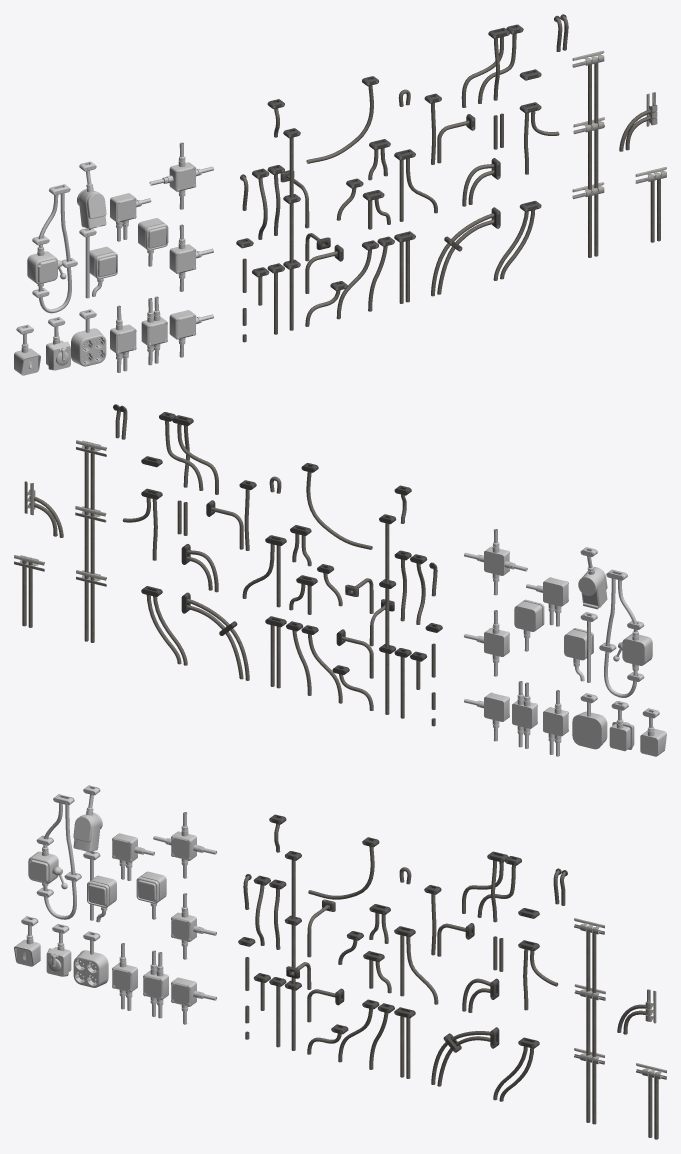
The model's file is modular_electric_cables_2k.fbx.
3 renders of one model, top to bottom at view 1: azimuth 30°, elevation 25°; view 2: azimuth 150°, elevation 25°; view 3: azimuth 330°, elevation 25°, orthographic.
Parts seen in each view (by area): view 1: cable_double_alt_long, cable_switch, cable_plug_4x, cable_3way_junction, cable_lightswitch_double, cable_straight_long, cable_plug_covered_2, cable_double_turn_long, cable_box_double, cable_box_4way, cable_box_3way, cable_box_double_to_single (+14 smaller); view 2: cable_double_alt_long, cable_switch, cable_3way_junction, cable_plug_4x, cable_straight_long, cable_lightswitch_double, cable_double_turn_long, cable_plug_covered_2, cable_box_double, cable_box_4way, cable_box_double_to_single_2, cable_box_3way (+14 smaller); view 3: cable_double_alt_long, cable_switch, cable_plug_4x, cable_3way_junction, cable_straight_long, cable_plug_covered_2, cable_lightswitch_double, cable_box_4way, cable_box_double, cable_double_turn_long, cable_box_3way, cable_box_double_to_single (+14 smaller).
Boxes of the visible parts, <box> form: cable_double_alt_long: <box>572,50,604,257</box>; cable_switch: <box>27,184,77,313</box>; cable_plug_4x: <box>71,309,106,366</box>; cable_3way_junction: <box>461,24,523,107</box>; cable_lightswitch_double: <box>79,228,117,298</box>; cable_straight_long: <box>283,128,300,330</box>; cable_plug_covered_2: <box>77,161,106,228</box>; cable_double_turn_long: <box>431,207,500,296</box>; cable_box_double: <box>141,296,167,365</box>; cable_box_4way: <box>149,142,213,209</box>; cable_box_3way: <box>169,224,213,291</box>; cable_box_double_to_single: <box>110,305,136,372</box>; cable_double_alt_long: <box>75,440,106,642</box>; cable_switch: <box>599,569,652,697</box>; cable_3way_junction: <box>159,412,218,494</box>; cable_plug_4x: <box>572,693,607,749</box>; cable_straight_long: <box>379,514,396,714</box>; cable_lightswitch_double: <box>564,612,597,682</box>; cable_double_turn_long: <box>181,592,249,680</box>; cable_plug_covered_2: <box>578,547,607,609</box>; cable_box_double: <box>512,681,537,748</box>; cable_box_4way: <box>464,529,527,595</box>; cable_box_double_to_single_2: <box>526,577,568,626</box>; cable_box_3way: <box>464,610,509,676</box>; cable_double_alt_long: <box>574,918,605,1124</box>; cable_switch: <box>28,794,81,919</box>; cable_plug_4x: <box>73,931,108,987</box>; cable_3way_junction: <box>462,851,521,922</box>; cable_straight_long: <box>284,851,301,1050</box>; cable_plug_covered_2: <box>73,785,102,852</box>; cable_lightswitch_double: <box>83,851,116,922</box>; cable_box_4way: <box>153,812,216,878</box>; cable_box_double: <box>143,950,168,1018</box>; cable_double_turn_long: <box>431,1027,499,1086</box>; cable_box_3way: <box>171,893,216,959</box>; cable_box_double_to_single: <box>112,943,137,1010</box>.
Size of the model in its own units: 208 by 75.73 by 21.45.
